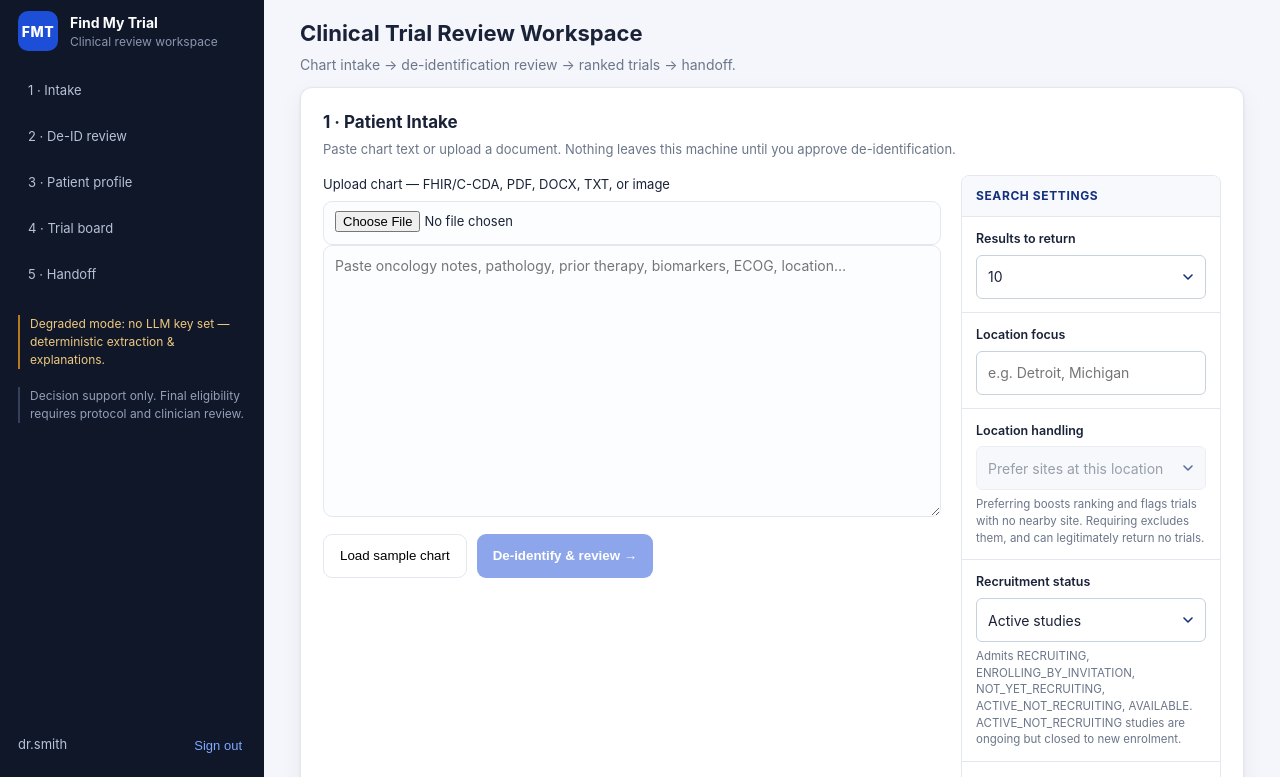
it: de-identification approval gate › sends the user back to re-review on a 403 rather than retrying silently
Check: the heading "Clinical Trial Review Workspace" is shown, box [300, 20, 643, 46]
Replace the text in the text box named "chart text" with "chart": (632, 380) [323, 244, 941, 516]
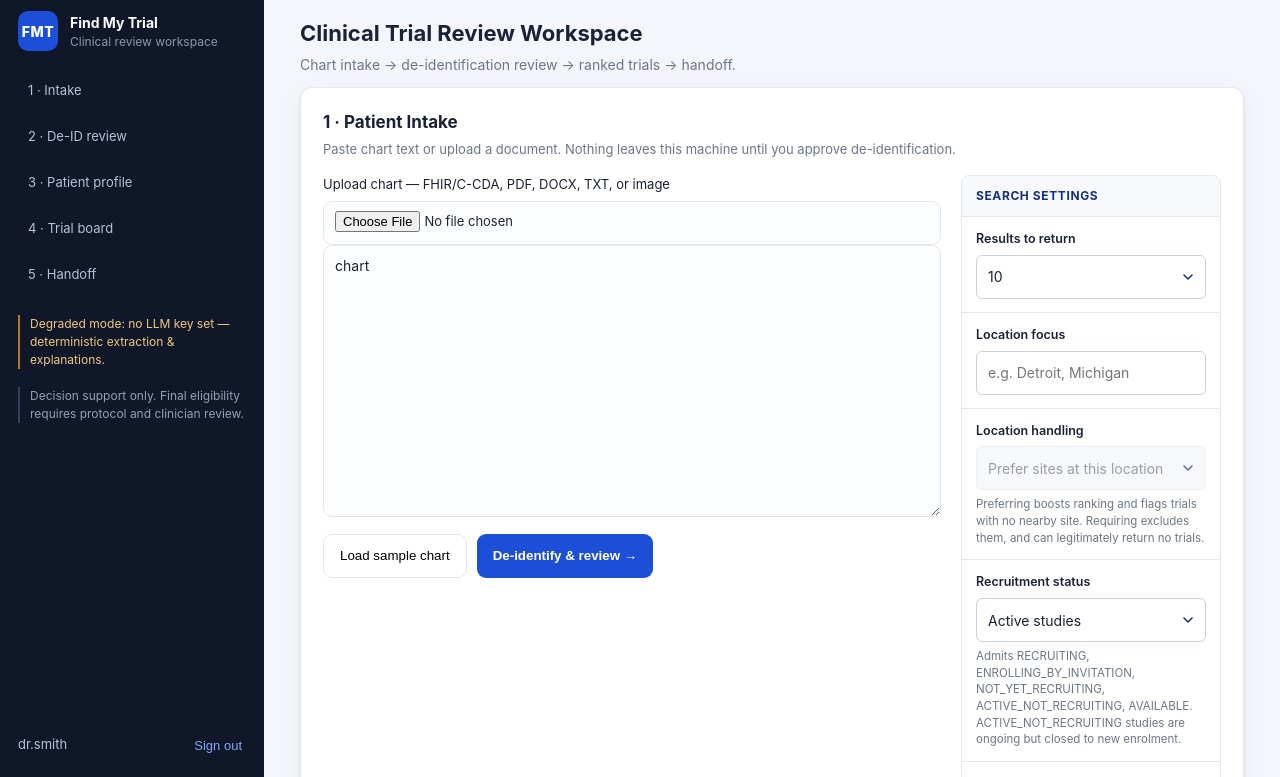
Click the button "De-identify & review →": (565, 556) [477, 534, 653, 578]
(page scrolled)
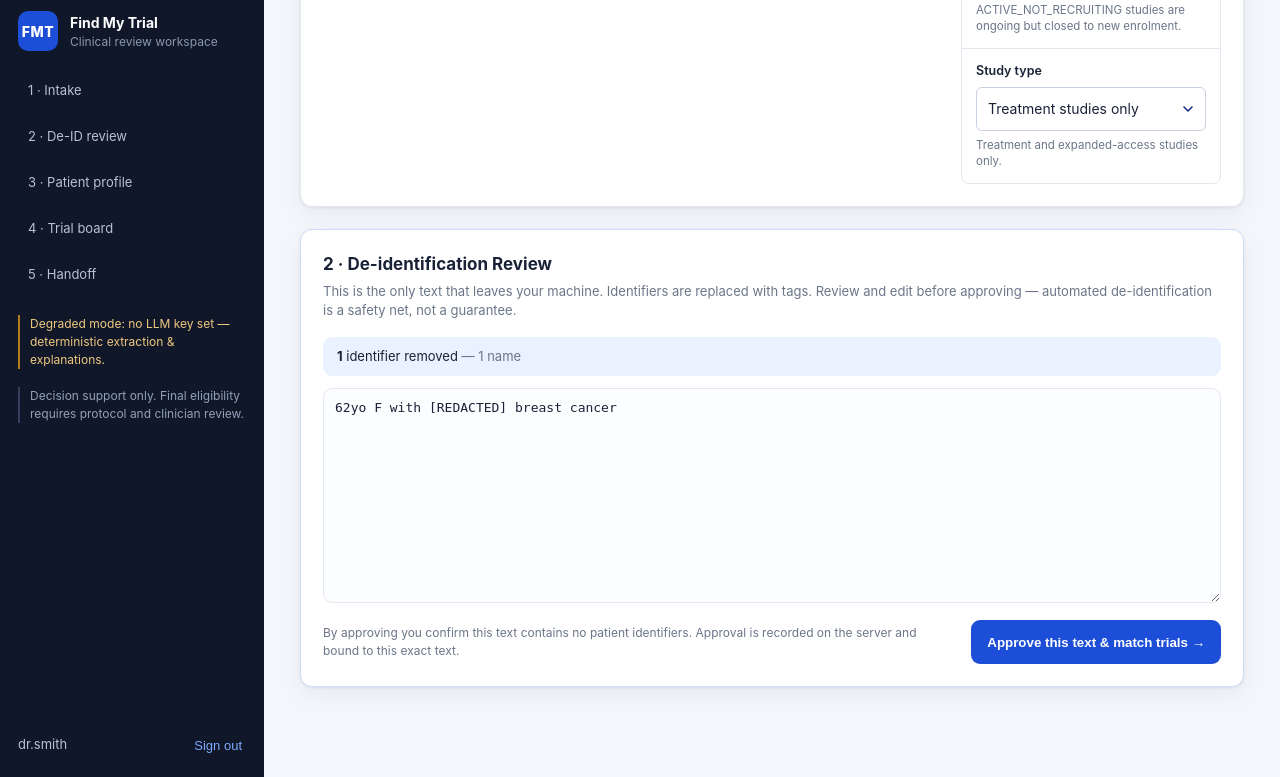
Click the button "Approve this text & match trials →": (1096, 642) [971, 620, 1221, 664]
(page scrolled)
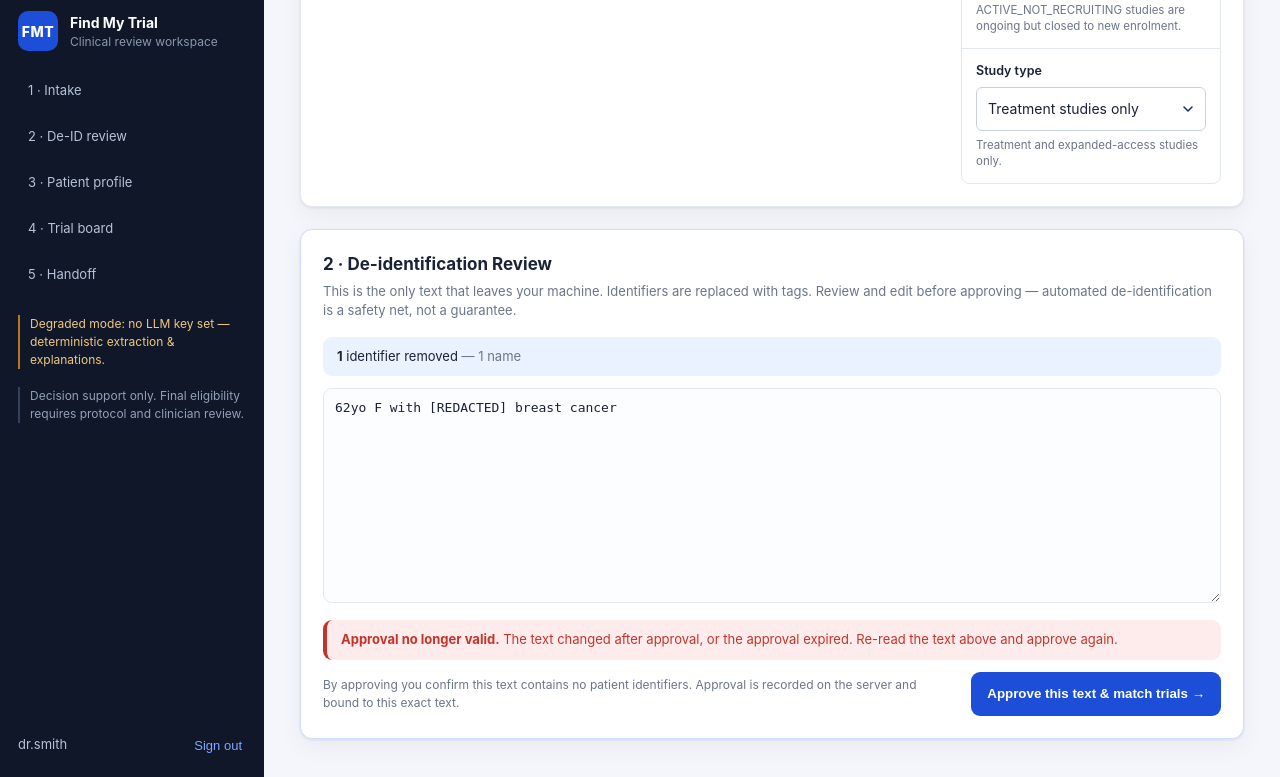
Check: the text "Approval no longer valid." is shown, box [341, 631, 500, 647]
